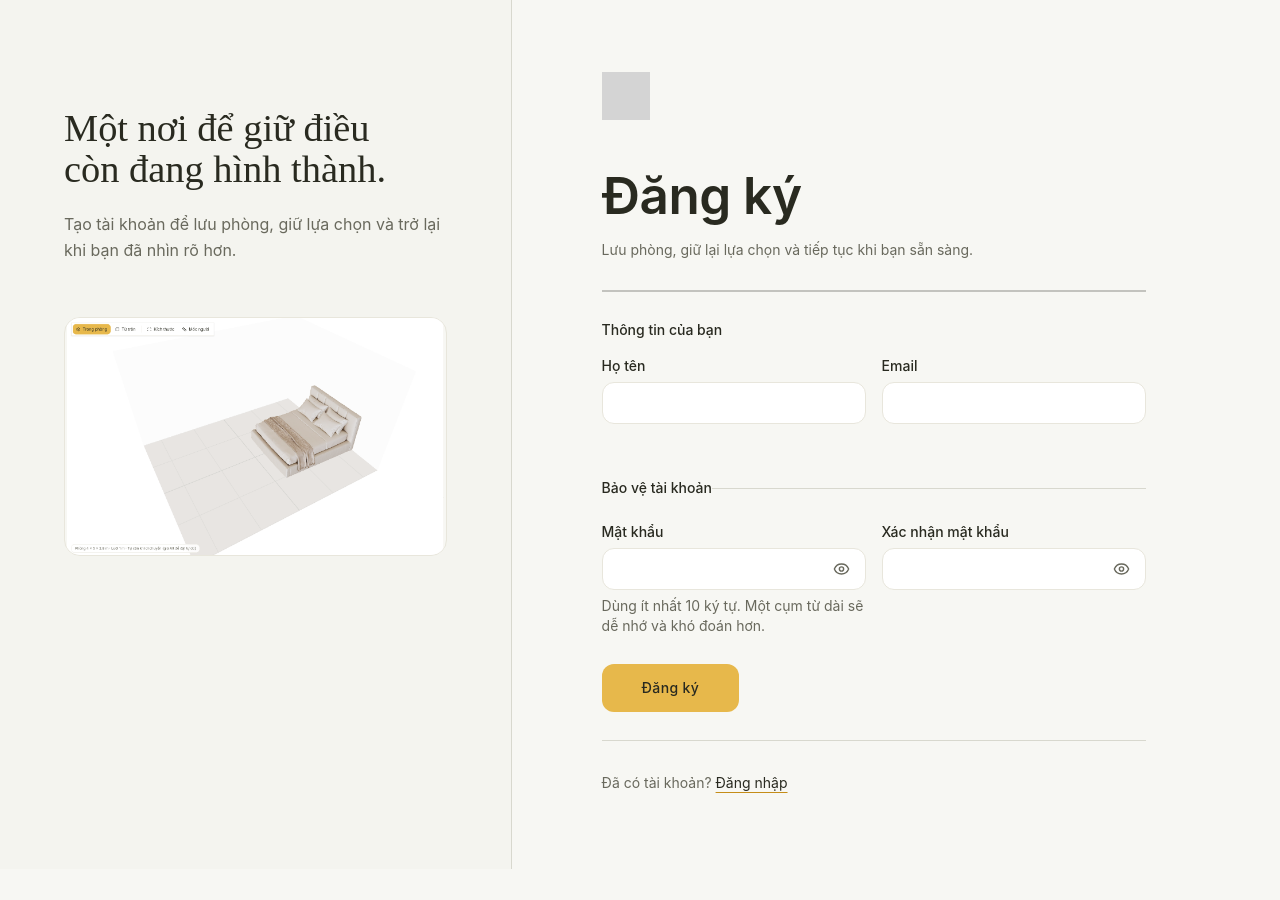
Test: RegisterPage › shows an error when the password confirmation does not match
Type "Bao" into the field labelled "Họ tên" at (734,403), box [602, 382, 866, 424]
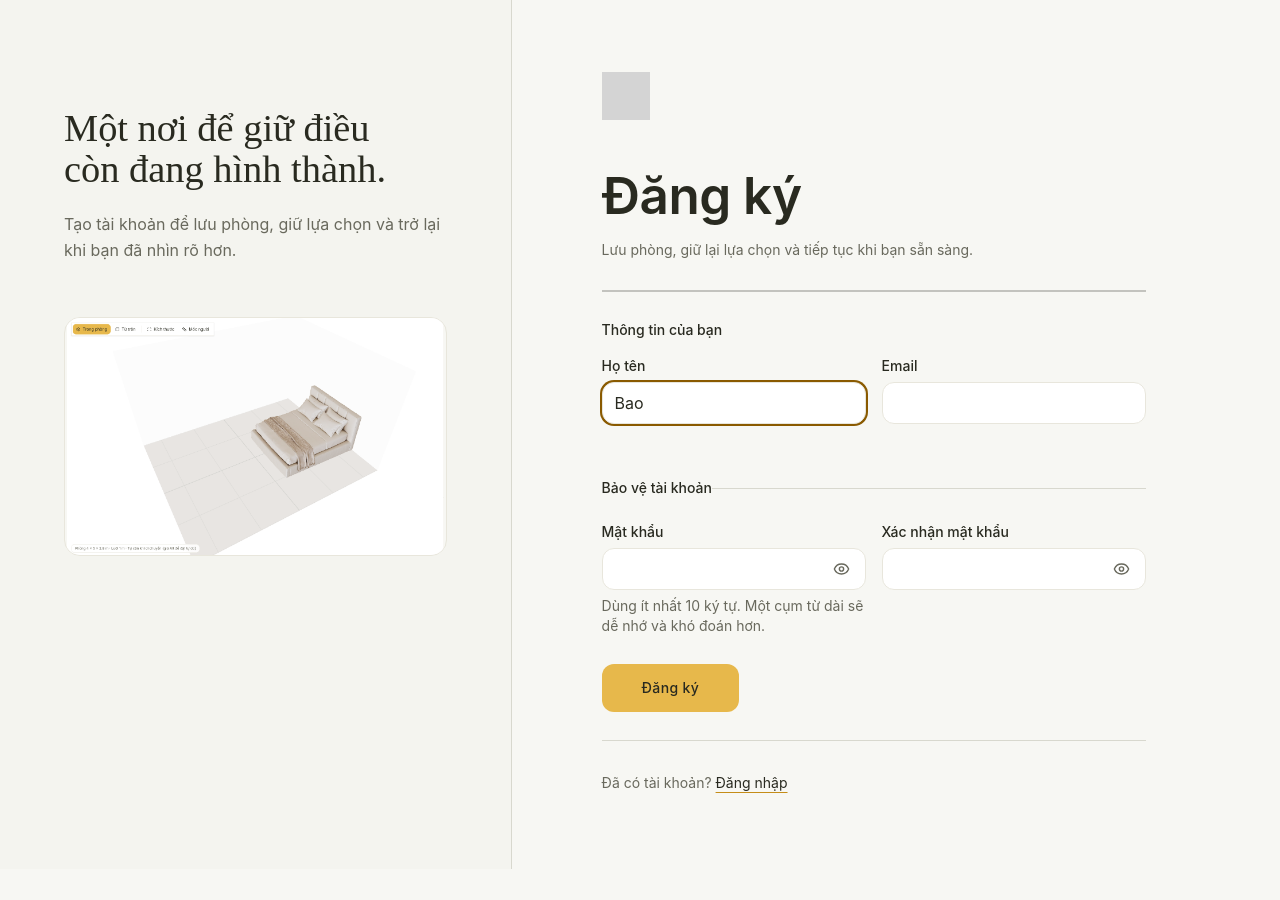
Type "bao@example.com" into the field labelled "Email" at (1014,403), box [882, 382, 1146, 424]
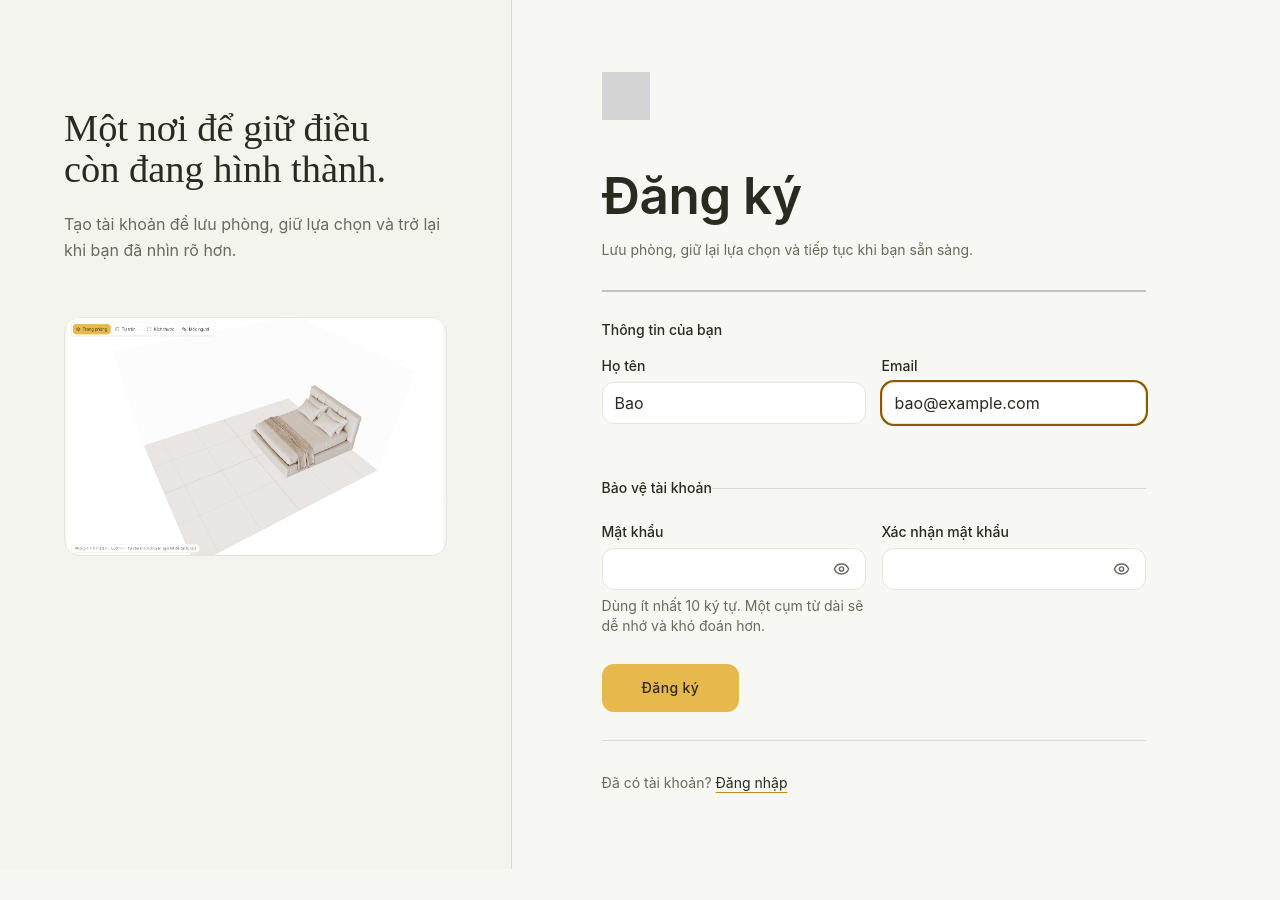
Type "password1234" into the password field labelled "Mật khẩu" at (734,569), box [602, 548, 866, 590]
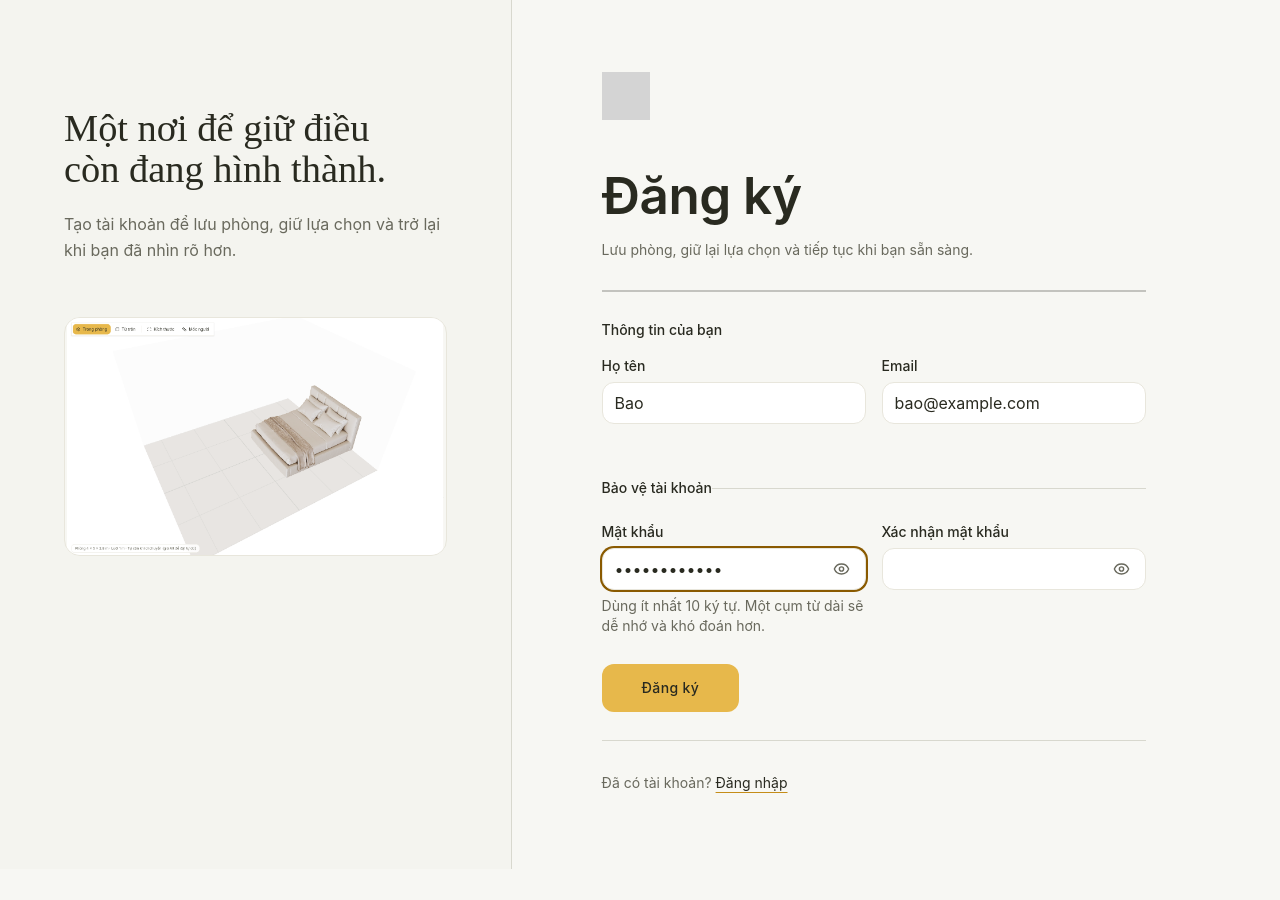
Type "somethingelse123" into the password field labelled "Xác nhận mật khẩu" at (1014,569), box [882, 548, 1146, 590]
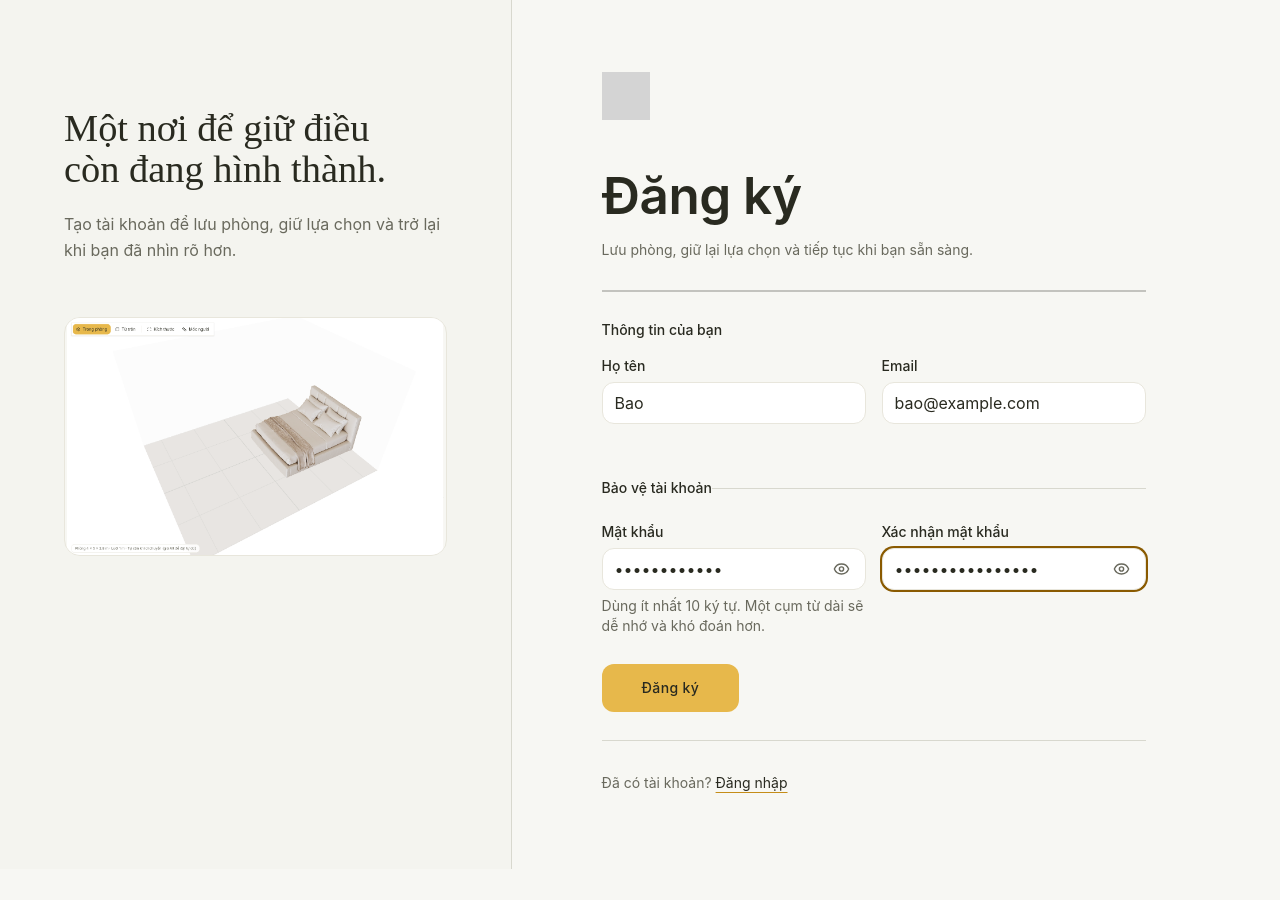
Click the button "Đăng ký" at (670,688), box [602, 664, 739, 712]
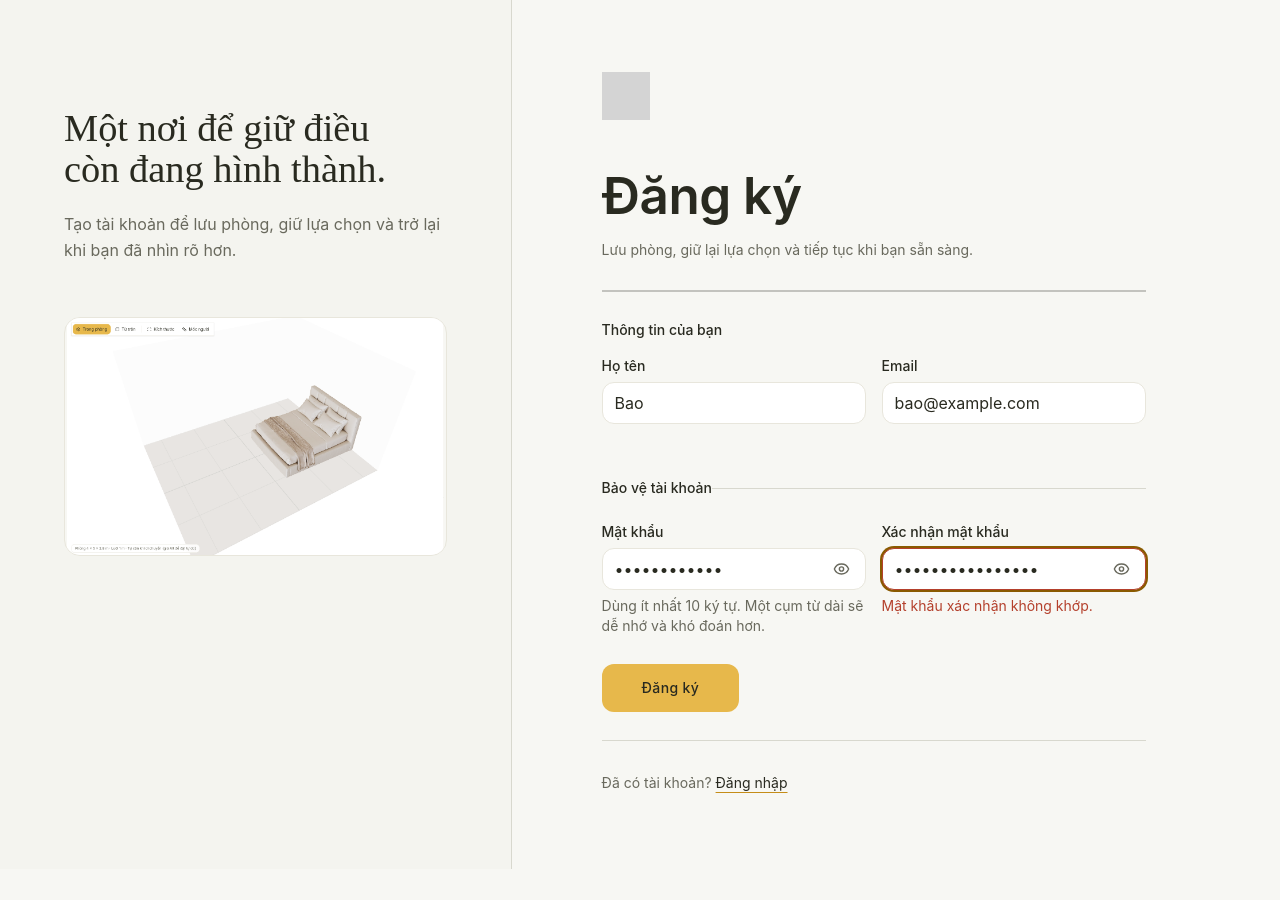
Check: the text "Mật khẩu xác nhận không khớp." is shown, box [882, 597, 1093, 614]
